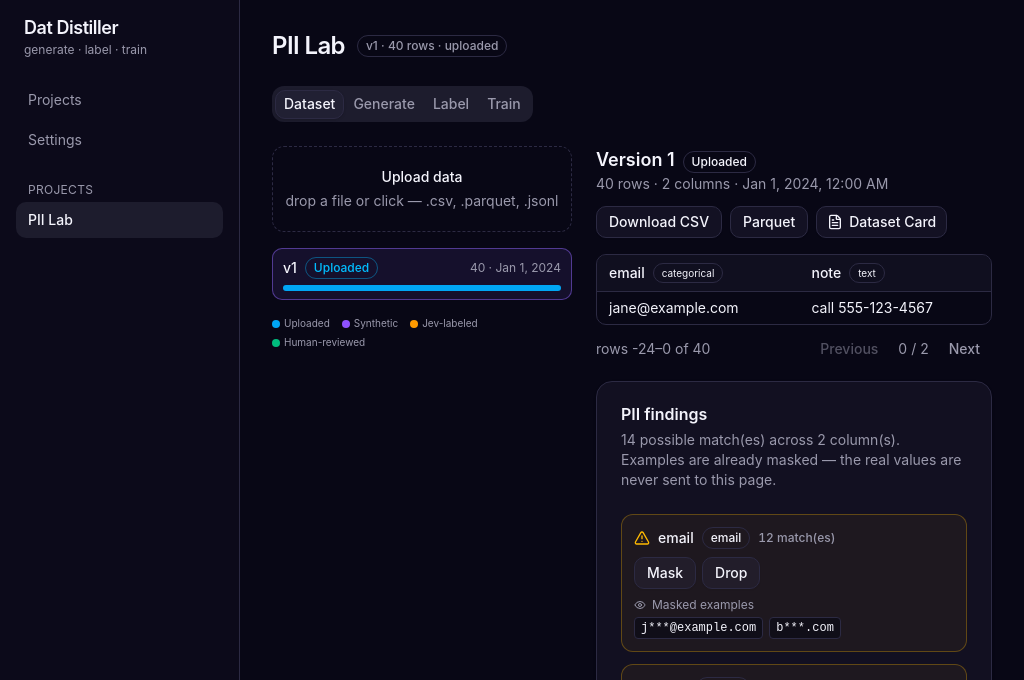
Test: PiiPanel — mask and drop › applies a chosen action and reports what it did
The width and height of the screenshot is (1024, 680).
Click the 1st button "Mask": (665, 573) x1=634 y1=557 x2=696 y2=589
(page scrolled)
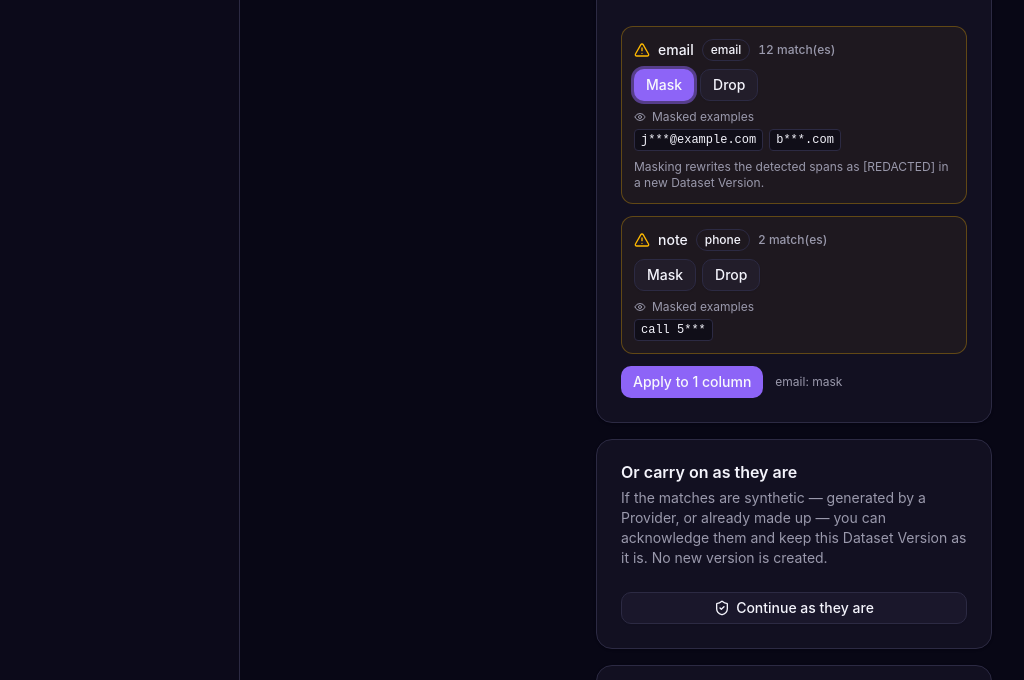
Now the text "rewrites the detected spans as [REDACTED]" is shown, box x1=634 y1=159 x2=948 y2=190
Click the button "Apply to 1 column": (692, 382) x1=621 y1=366 x2=763 y2=398
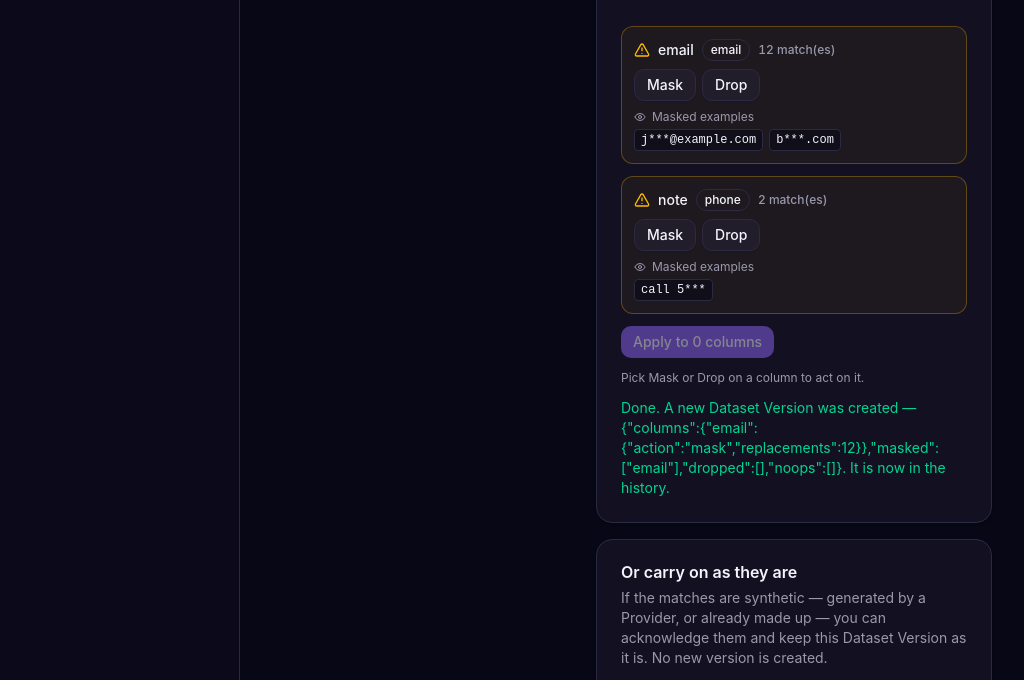
Now the text "A new Dataset Version was created" shows "in the history", box x1=621 y1=399 x2=946 y2=496
Now the text "A new Dataset Version was created" shows "\"masked\":[\"email\"]", box x1=621 y1=399 x2=946 y2=496
